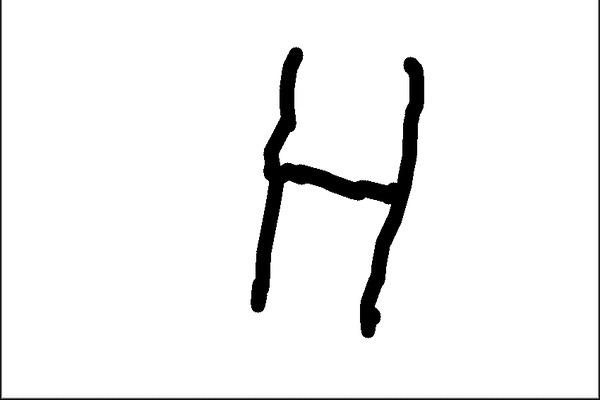H: (240, 37, 428, 345)
